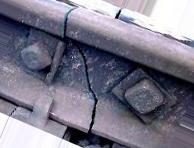tracks_fault: (57, 1, 106, 143)
